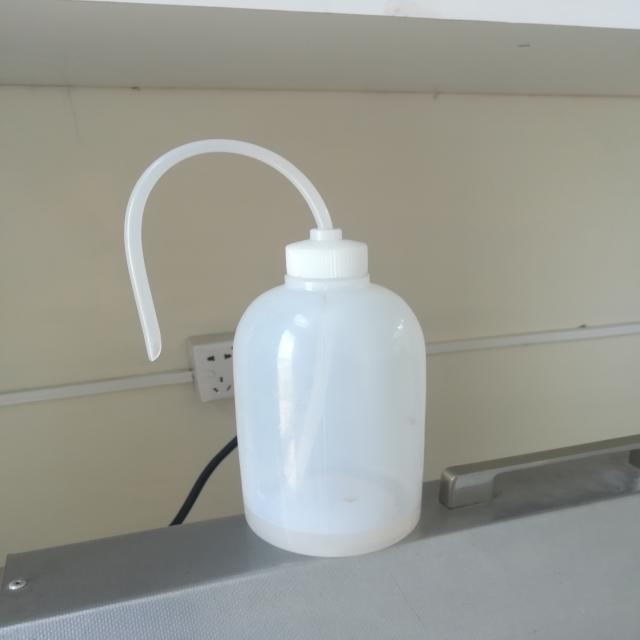Wash_Bottle: (76, 105, 471, 591)
